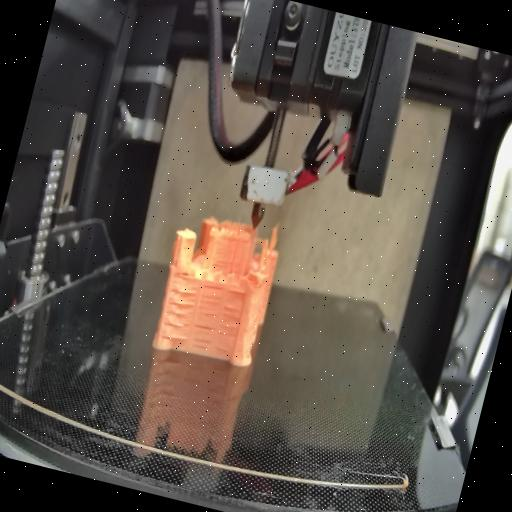cracks: (191, 283, 225, 351), (159, 286, 198, 344), (214, 304, 242, 356), (211, 254, 234, 272), (174, 264, 195, 280), (226, 286, 246, 298)
